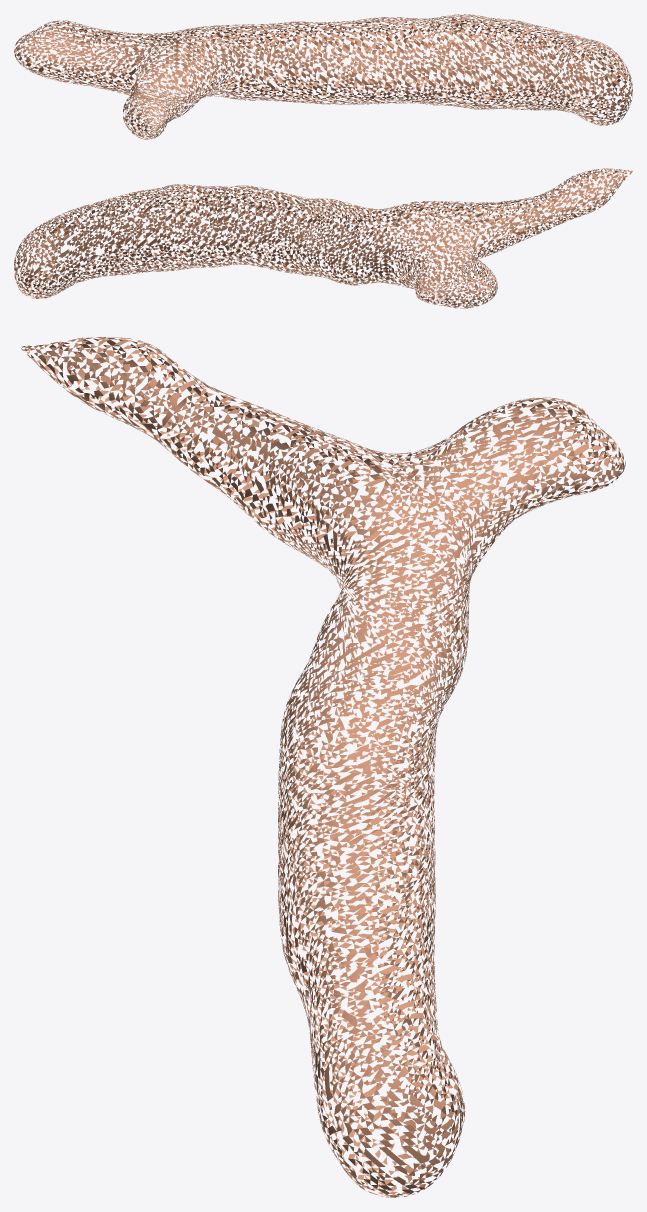
Rendered from morph_004.glb.
3 views of the same model, one above another, from view 1: azimuth 30°, elevation 25°; view 2: azimuth 150°, elevation 25°; view 3: azimuth 270°, elevation 25° (orthographic). The views are drawn at different scales.
Size of the model in its own units: 111 by 39.14 by 56.05.
